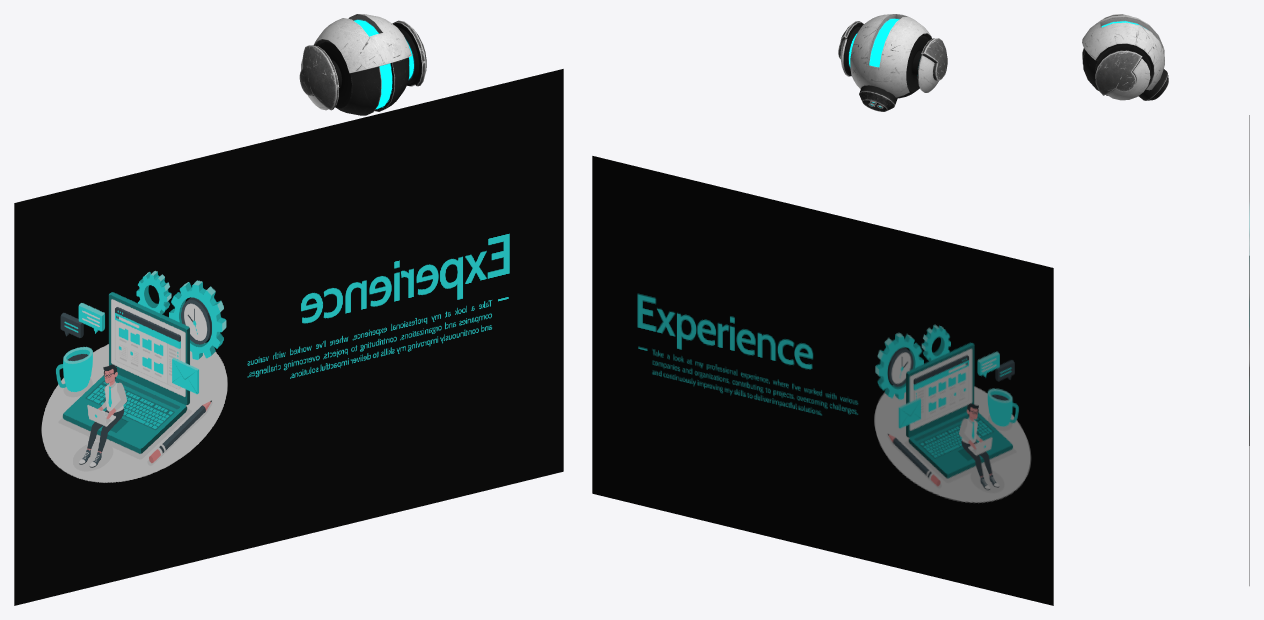
Rendered from exp.fbx.
The picture shows the model from 3 angles, left to right: view 1: azimuth 30°, elevation 25°; view 2: azimuth 150°, elevation 25°; view 3: azimuth 270°, elevation 25°; orthographic projection. The views are drawn at different scales.
Visible parts, largest first — view 1: Object_5, Object_2; view 2: Object_5, Object_2; view 3: Object_2, Object_5.
Boxes of the visible parts, box(x1,y1,x2,y2) form: Object_5: box(14, 69, 563, 605); Object_2: box(299, 14, 426, 115); Object_5: box(592, 156, 1053, 605); Object_2: box(838, 14, 947, 111); Object_2: box(1082, 14, 1168, 100); Object_5: box(1249, 115, 1249, 585).
Bounding box in the file's own units: 53.84 × 54.04 × 17.33.
Materials: 2 (2 with a texture image).
